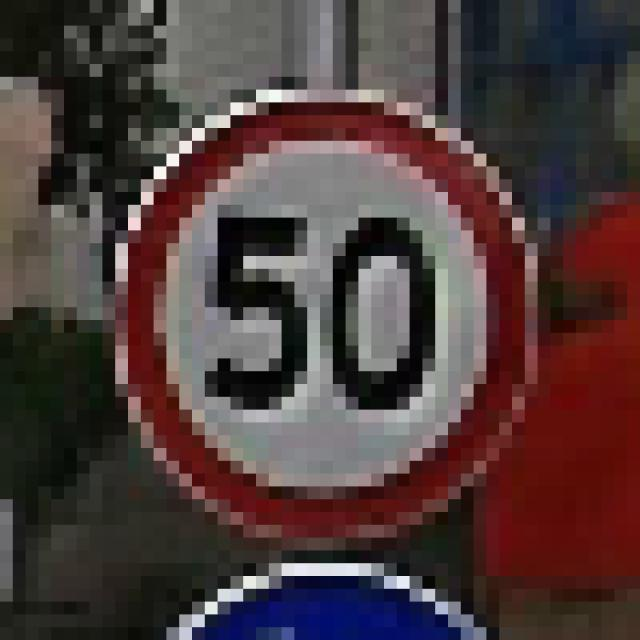Limite-50: (108, 84, 542, 553)
